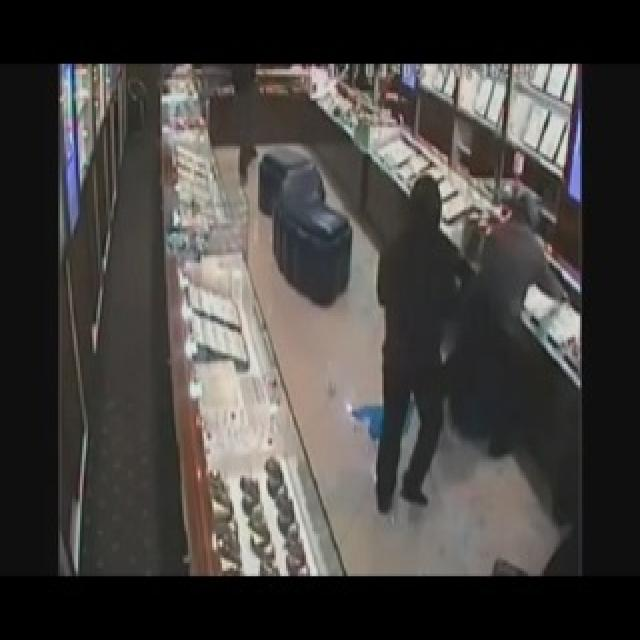thief: (357, 172, 459, 523), (464, 170, 553, 442), (229, 65, 263, 181)
